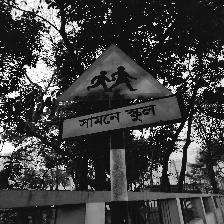School-in-front: (57, 44, 185, 140)
